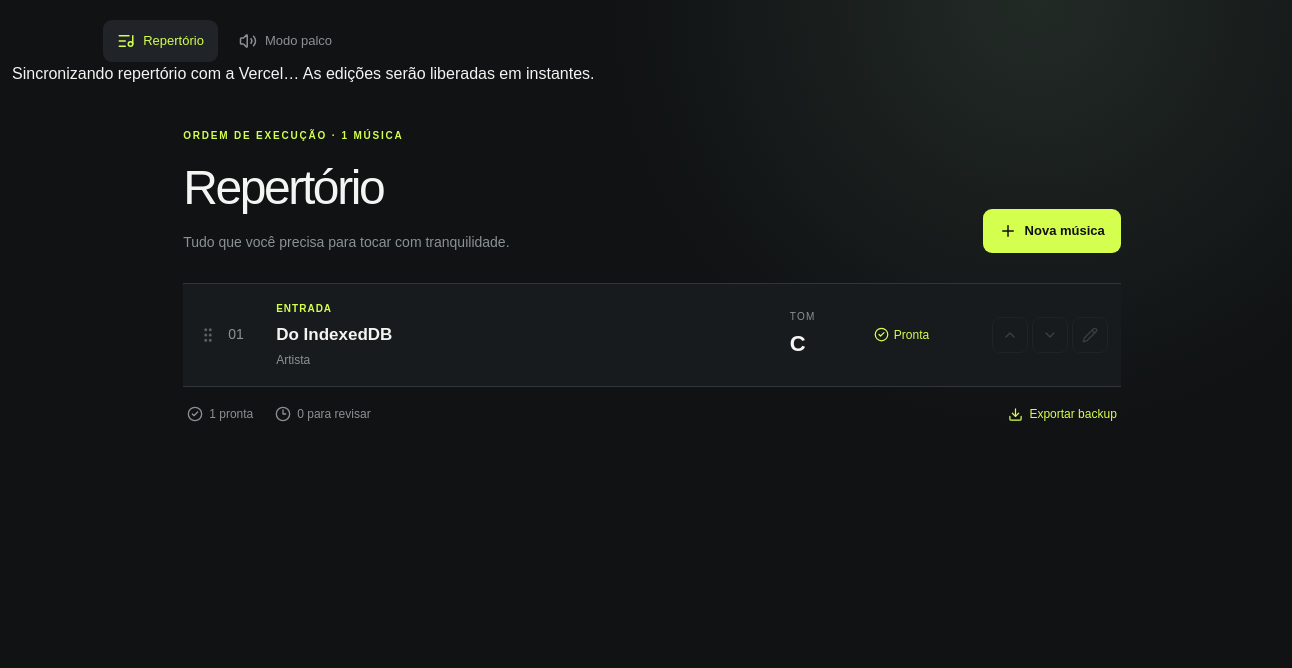
Test: controller integration › warms up audio in the same click that opens the stage
The image size is (1292, 668).
Click the button with aria-label "abrir do indexeddb no modo palco": (304, 308) [228,290,984,380]
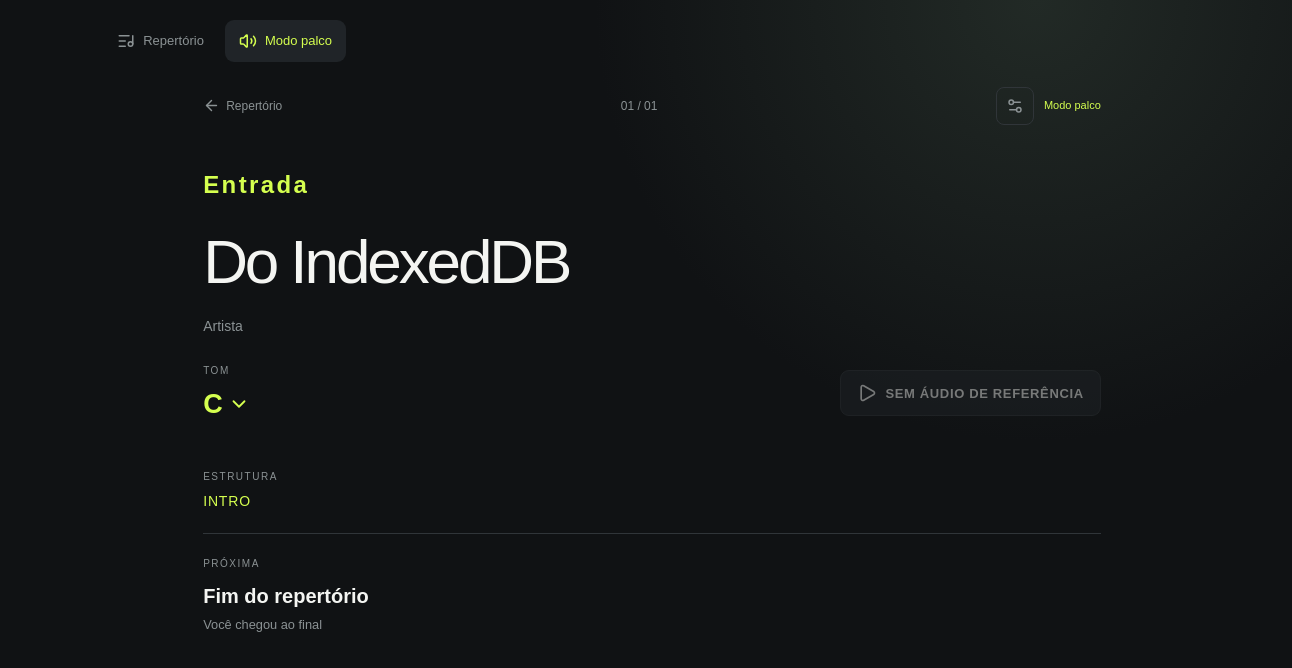
Check: the heading "Do IndexedDB" is shown, box [203,226,569,296]
